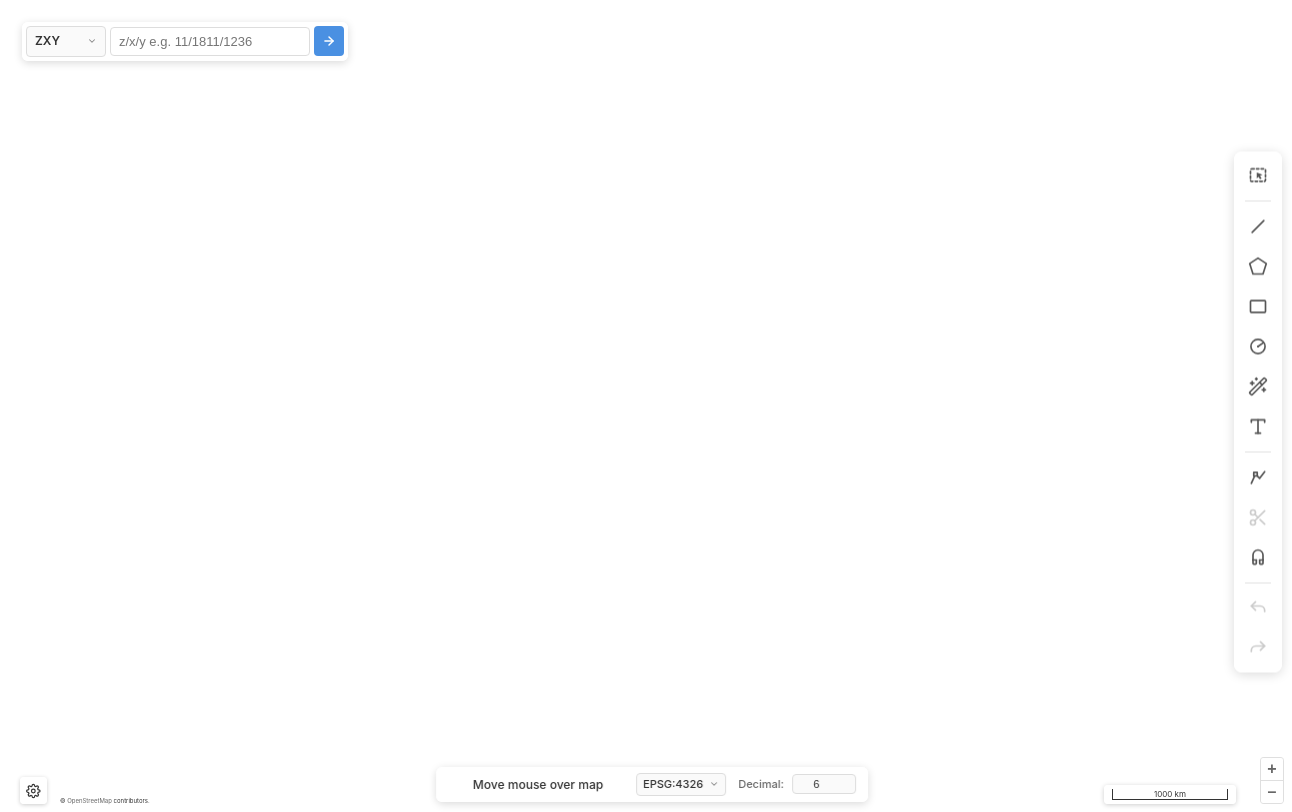
Escape puts the picked-up vertex back where it was
Click the button titled "Draw Line" at (1258, 226), box [1240,208,1276,244]
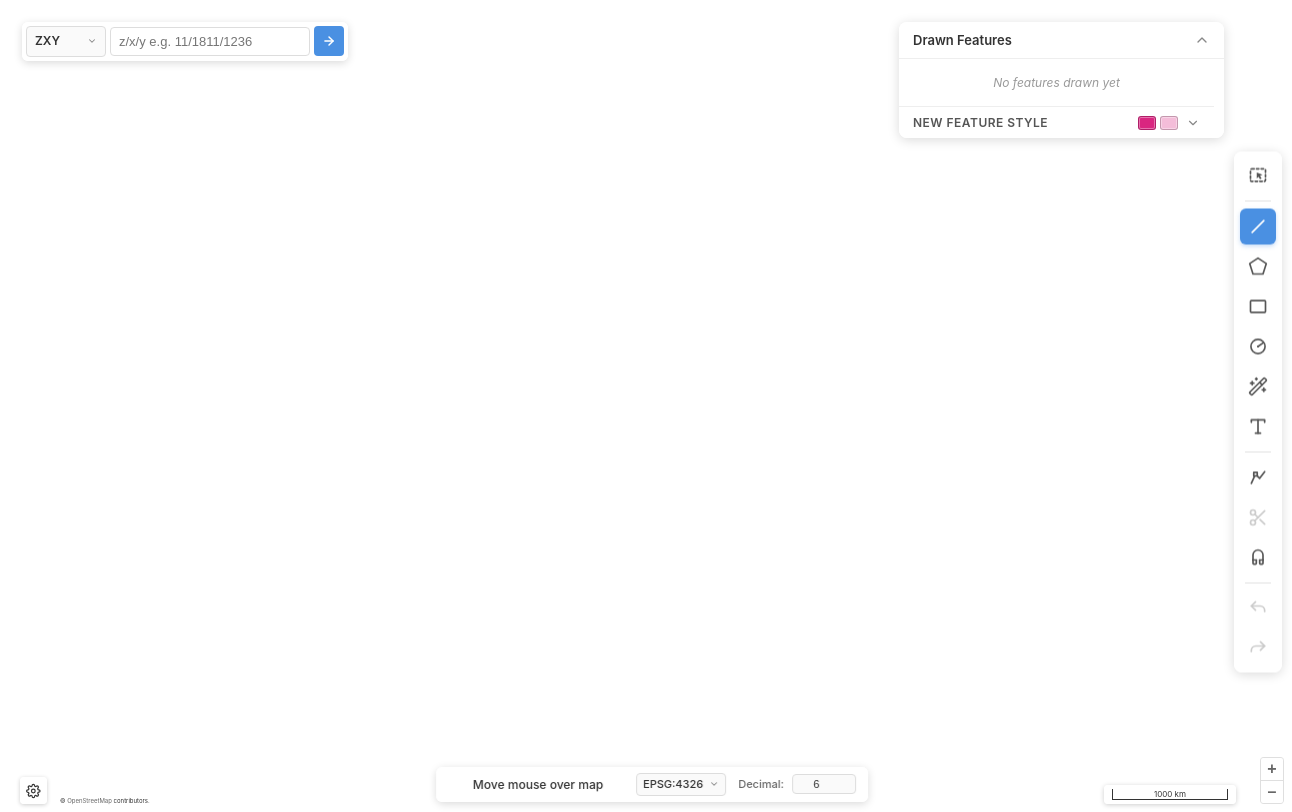
Press the mouse on the element with class "ol-viewport" at (652, 412), box [12,12,1291,811]
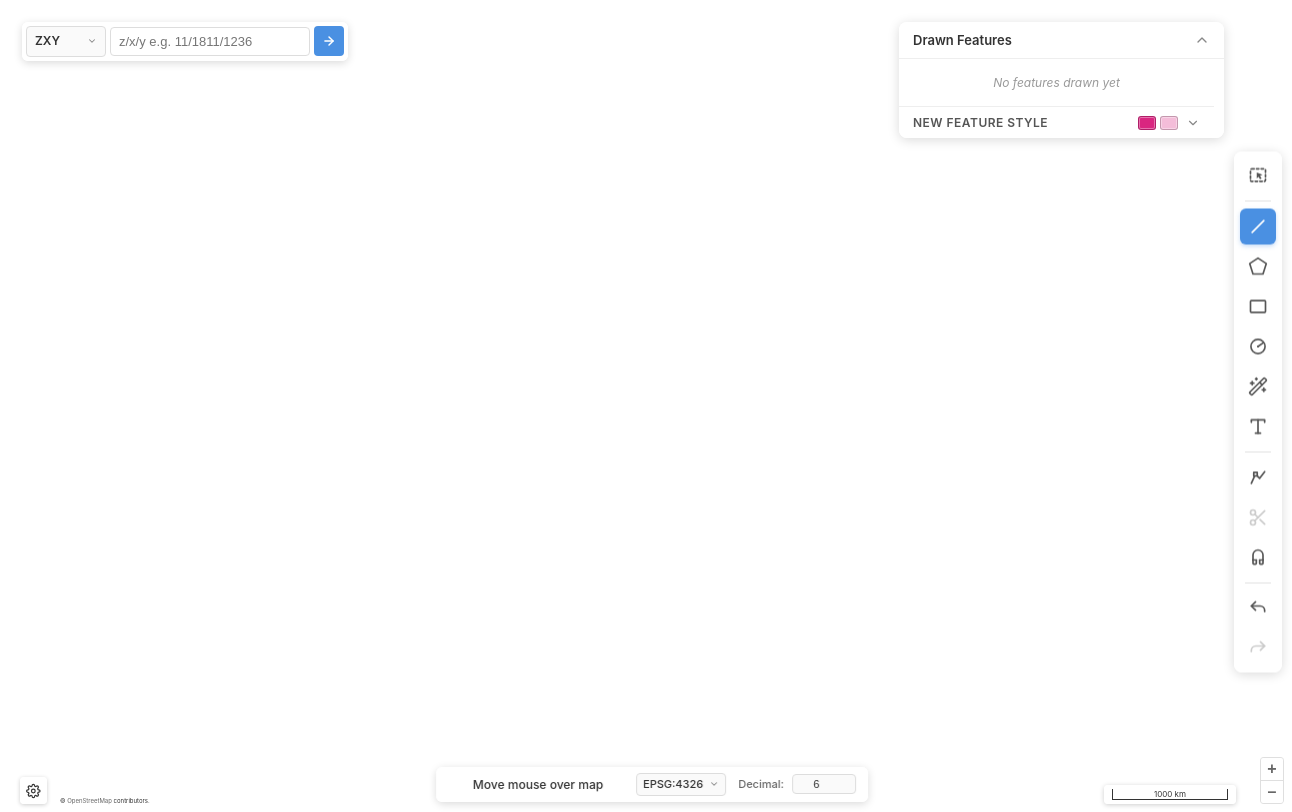
Press the mouse on the element with class "ol-viewport" at (652, 412), box [12,12,1291,811]
Press the mouse on the element with class "ol-viewport" at (652, 412), box [12,12,1291,811]
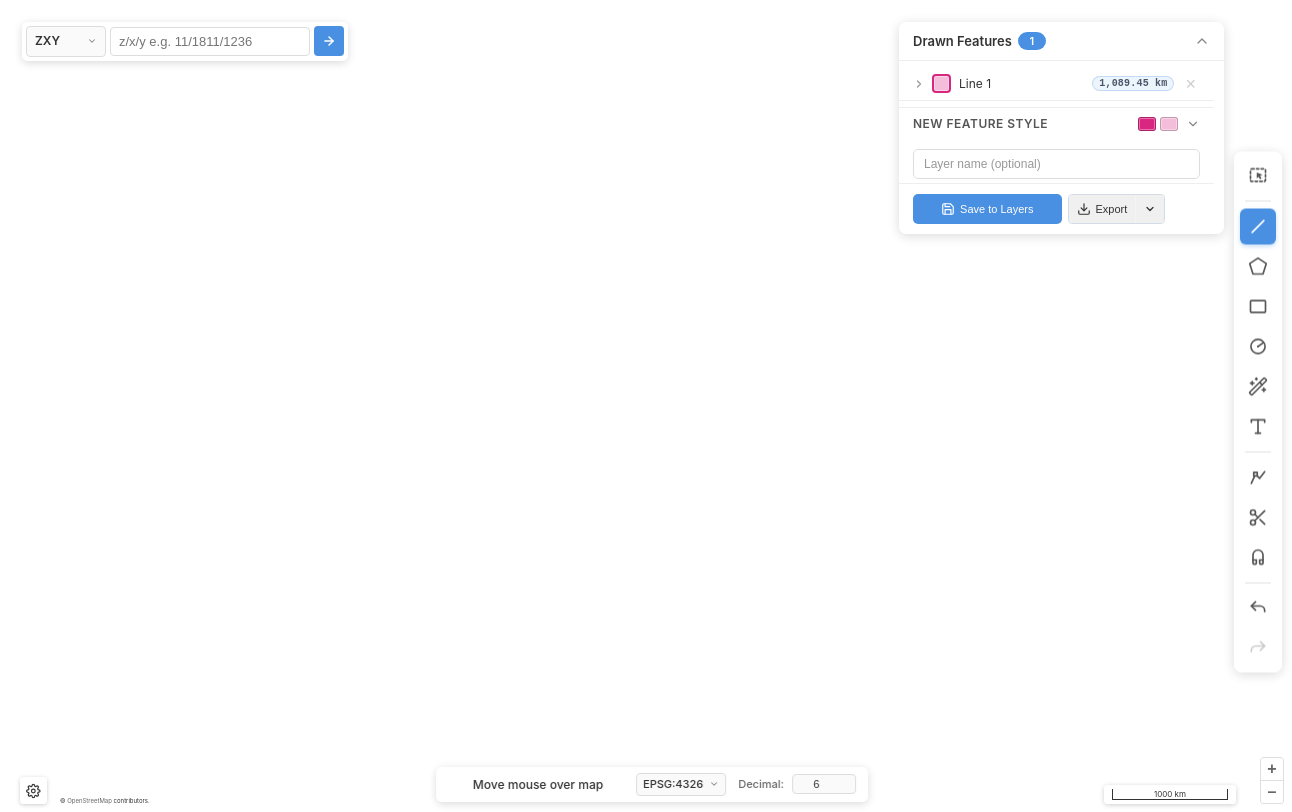
Click the button titled "Edit vertices — drag to reshape drawn features" at (1258, 478), box [1240,460,1276,496]
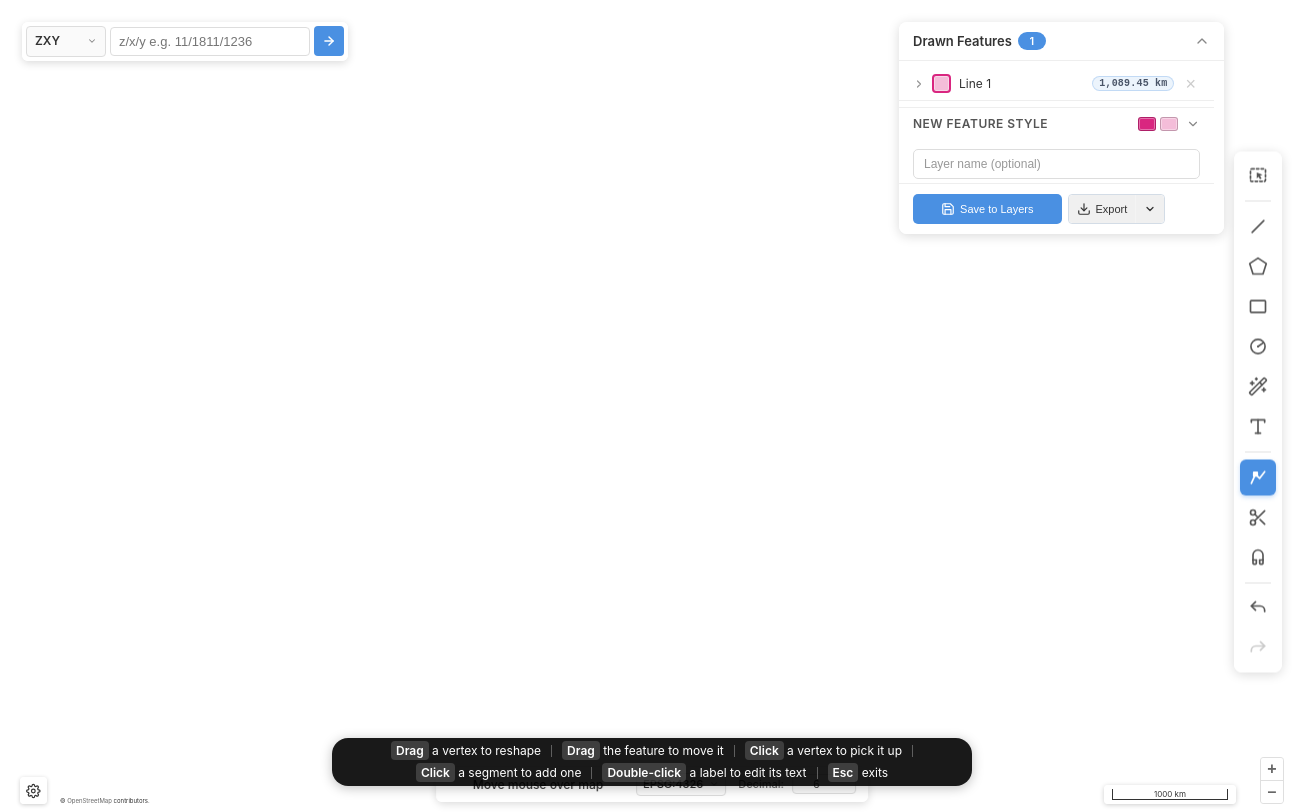
Press the mouse on the element with class "ol-viewport" at (652, 412), box [12,12,1291,811]
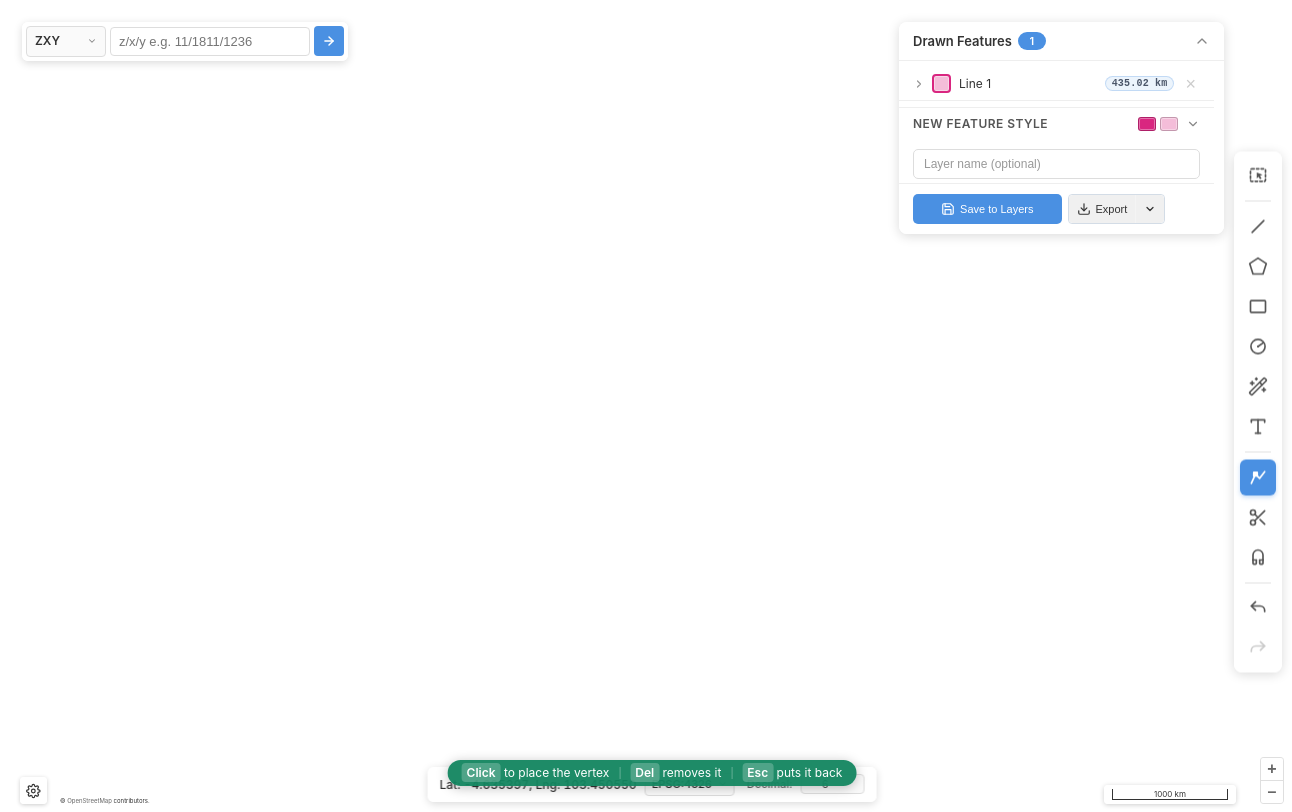
Press Escape
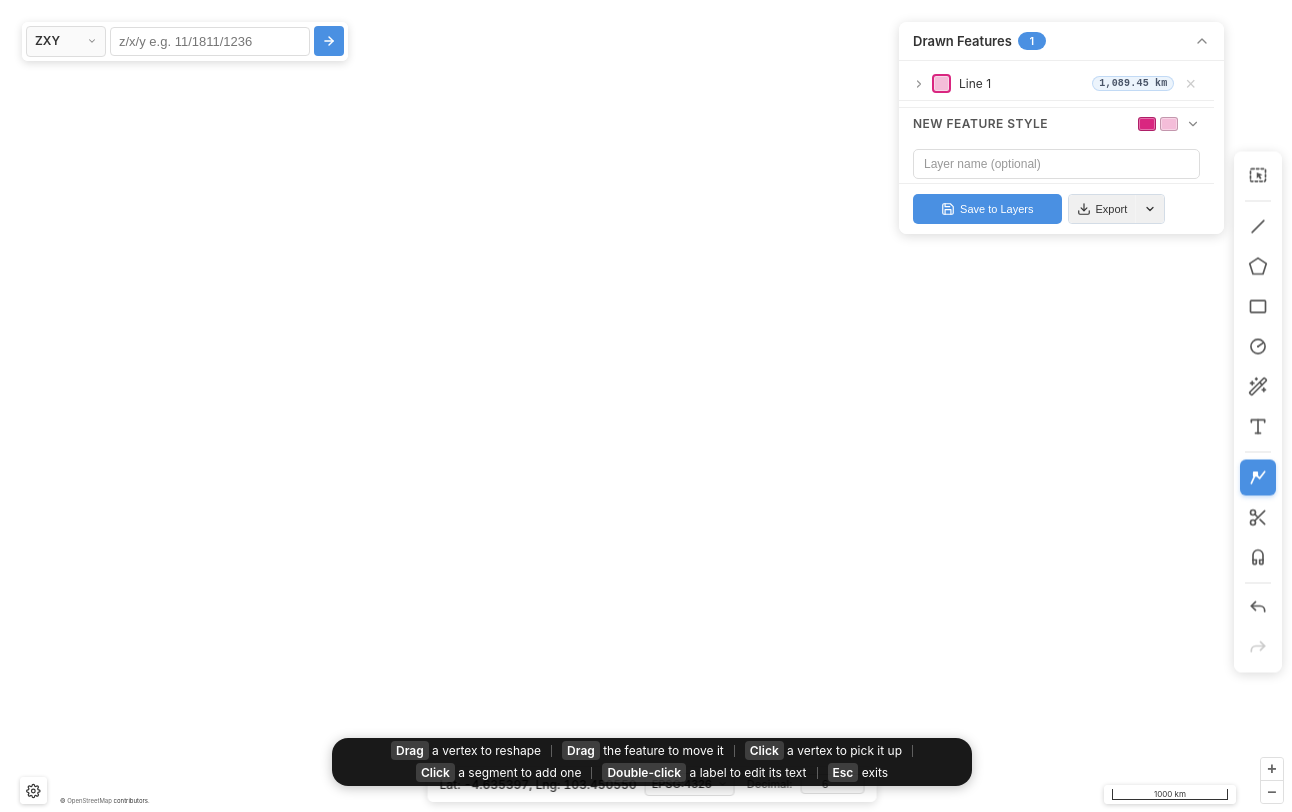
Check: the element with class "draw-modify-hint" no longer shows "Click to place the vertex"
